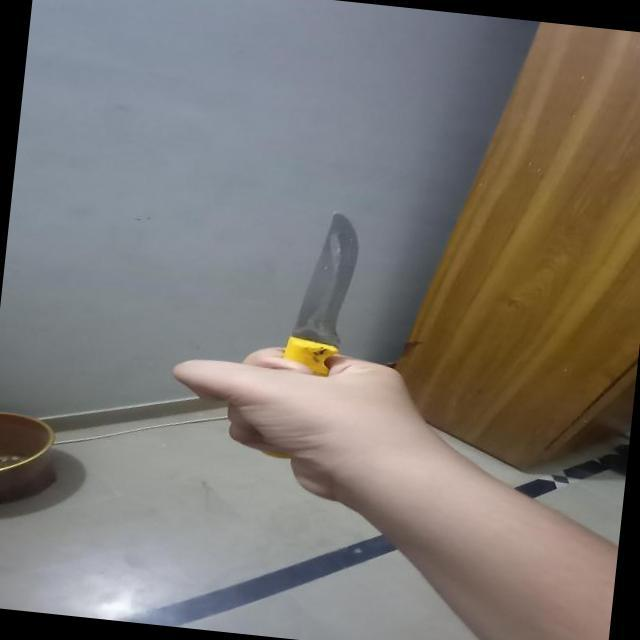Knife: (274, 202, 396, 436)
